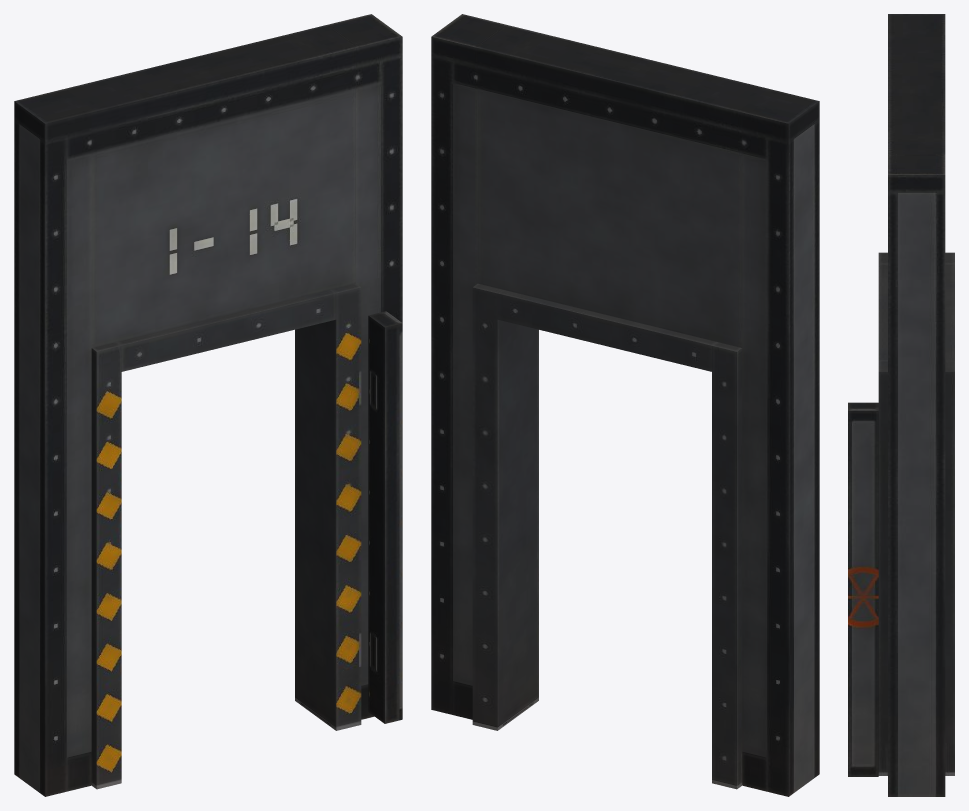
Rendered from bulkhead_door.glb.
3 views of the same model, side by side, from view 1: azimuth 30°, elevation 25°; view 2: azimuth 150°, elevation 25°; view 3: azimuth 270°, elevation 25° (orthographic). The views are drawn at different scales.
Parts seen in each view (by area): view 1: bulkhead_door; view 2: bulkhead_door; view 3: bulkhead_door.
Boxes of the visible parts, x1,y1,x2,y2 form: bulkhead_door: (14,14,402,796); bulkhead_door: (431,14,819,796); bulkhead_door: (848,14,954,796).
Bounding box in the file's own units: 2 × 3.6 × 0.56.
1 material, 1 textured.
